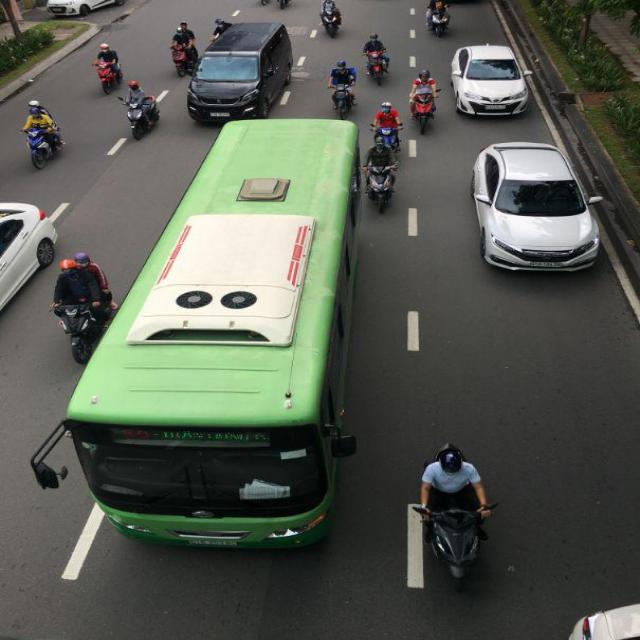bus: (62, 118, 367, 556)
car: (469, 142, 602, 272), (188, 22, 294, 123), (1, 199, 67, 343), (451, 45, 532, 117), (46, 1, 120, 19)
motorcycle: (417, 502, 492, 578), (52, 290, 115, 362), (126, 87, 164, 142), (26, 126, 65, 169), (329, 61, 359, 114), (367, 165, 397, 211), (411, 93, 438, 136), (331, 82, 357, 118), (172, 44, 199, 78), (321, 1, 342, 38)
